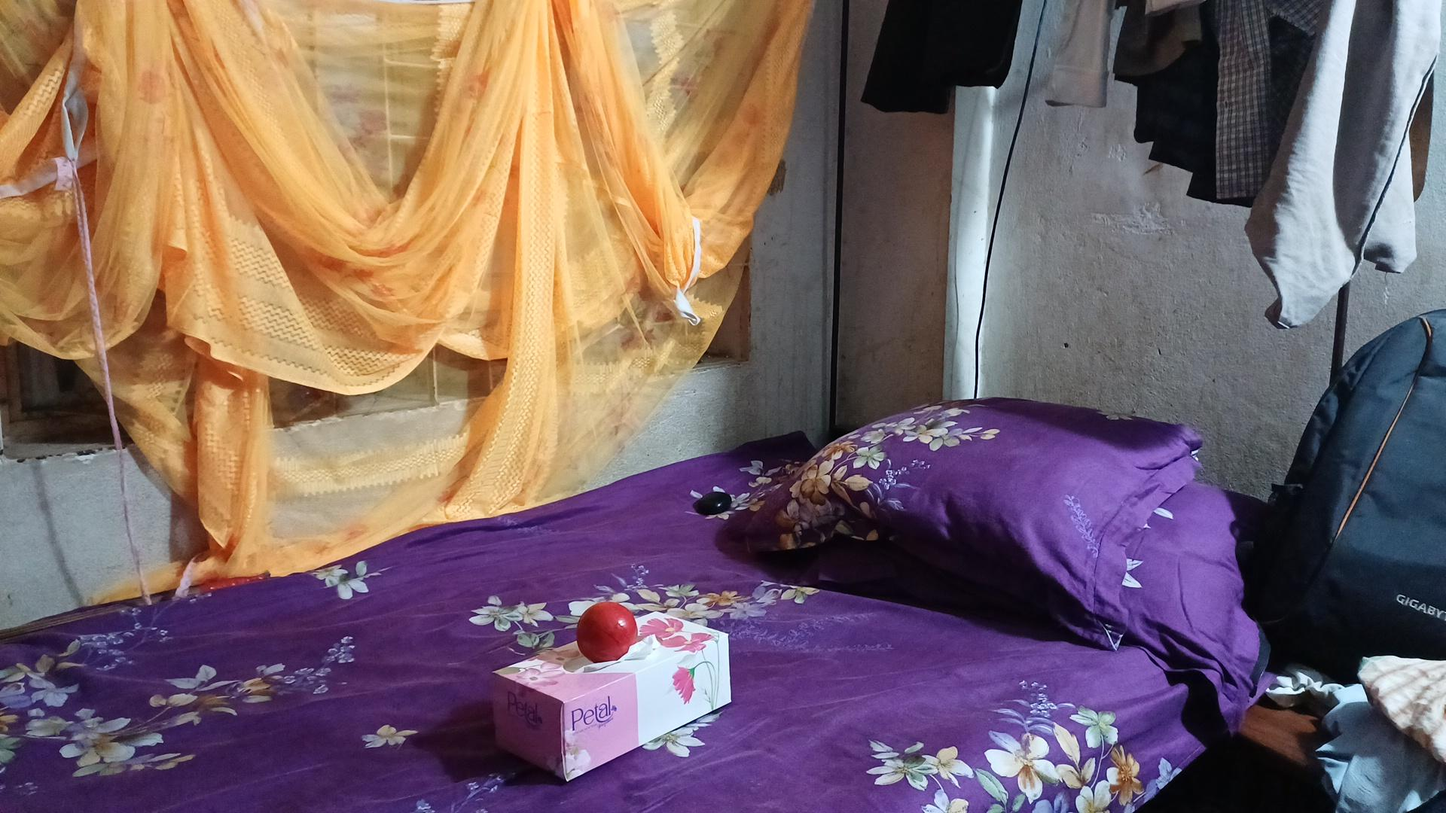Bag: (1292, 265, 1446, 652)
Box: (480, 595, 771, 782)
Pillow: (762, 346, 1237, 668)
